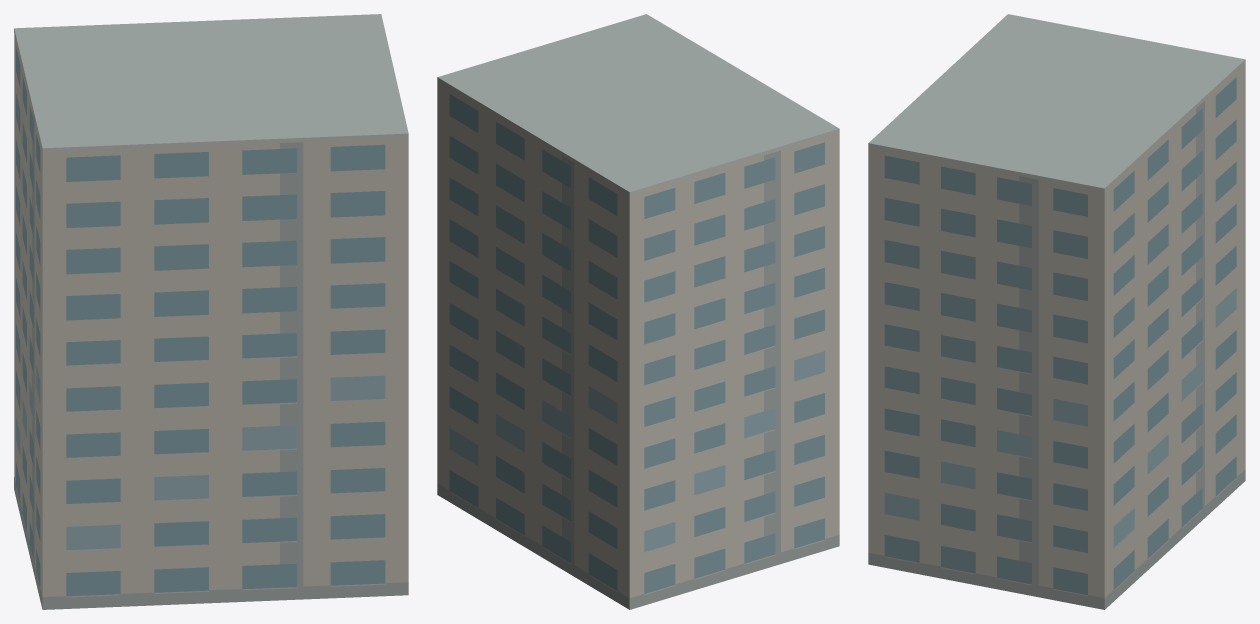
File: residential-d6e1b448-3ad1-4e7f-ac62-17b9b5fadea3.glb
3 renders of one model, left to right at view 1: azimuth 30°, elevation 25°; view 2: azimuth 150°, elevation 25°; view 3: azimuth 270°, elevation 25°, orthographic. The views are drawn at different scales.
Visible parts, largest first — view 1: residential-d6e1b448-3ad1-4e7f-ac62-17b9b5fadea3.tmp; view 2: residential-d6e1b448-3ad1-4e7f-ac62-17b9b5fadea3.tmp; view 3: residential-d6e1b448-3ad1-4e7f-ac62-17b9b5fadea3.tmp.
Part boxes in pixels (x1,y1,x2,y2): residential-d6e1b448-3ad1-4e7f-ac62-17b9b5fadea3.tmp: (14,14,408,609); residential-d6e1b448-3ad1-4e7f-ac62-17b9b5fadea3.tmp: (437,14,839,609); residential-d6e1b448-3ad1-4e7f-ac62-17b9b5fadea3.tmp: (868,14,1245,609).
Bounding box in the file's own units: 23.09 × 26 × 21.09.
